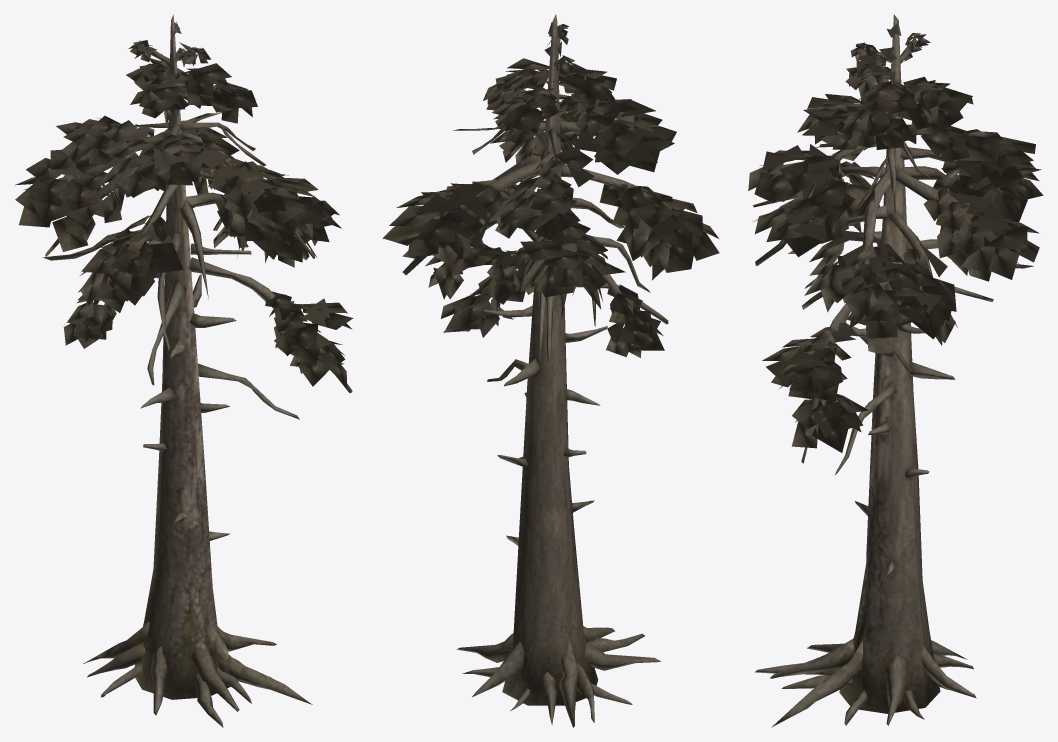
Rendered from x_tree_single_B.glb.
The picture shows the model from 3 angles, left to right: view 1: azimuth 30°, elevation 25°; view 2: azimuth 150°, elevation 25°; view 3: azimuth 270°, elevation 25°; orthographic projection.
Parts seen in each view (by area): view 1: x_tree_single_B; view 2: x_tree_single_B; view 3: x_tree_single_B.
Boxes of the visible parts, x1,y1,x2,y2 form: x_tree_single_B: (15,14,353,727); x_tree_single_B: (383,14,719,727); x_tree_single_B: (748,14,1043,727).
Bounding box in the file's own units: 0.5353 × 1.21 × 0.4807.
1 material, 1 textured.
